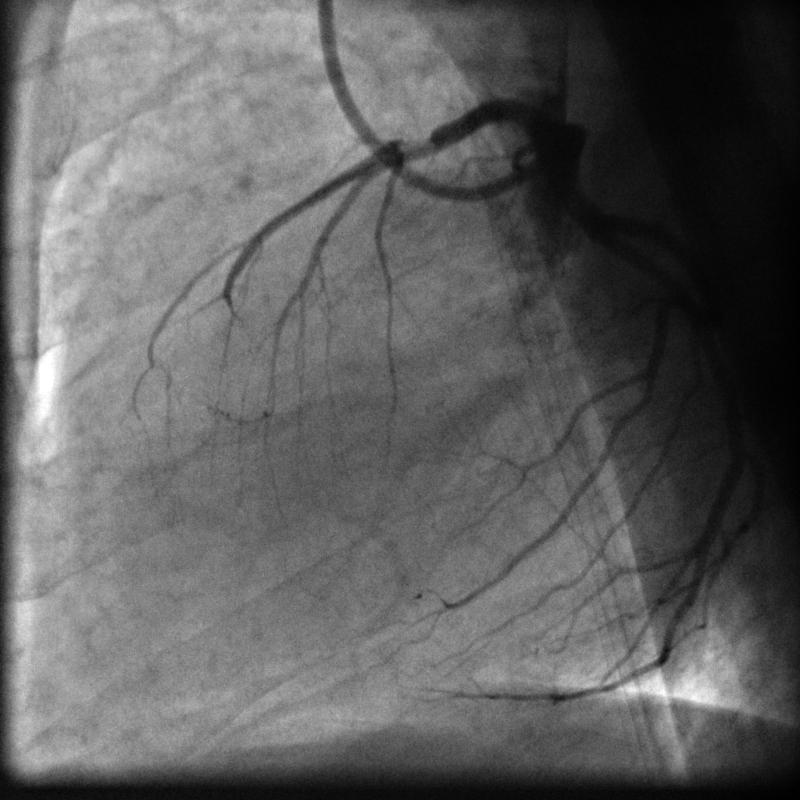Stenosis: (385, 128, 440, 165)
